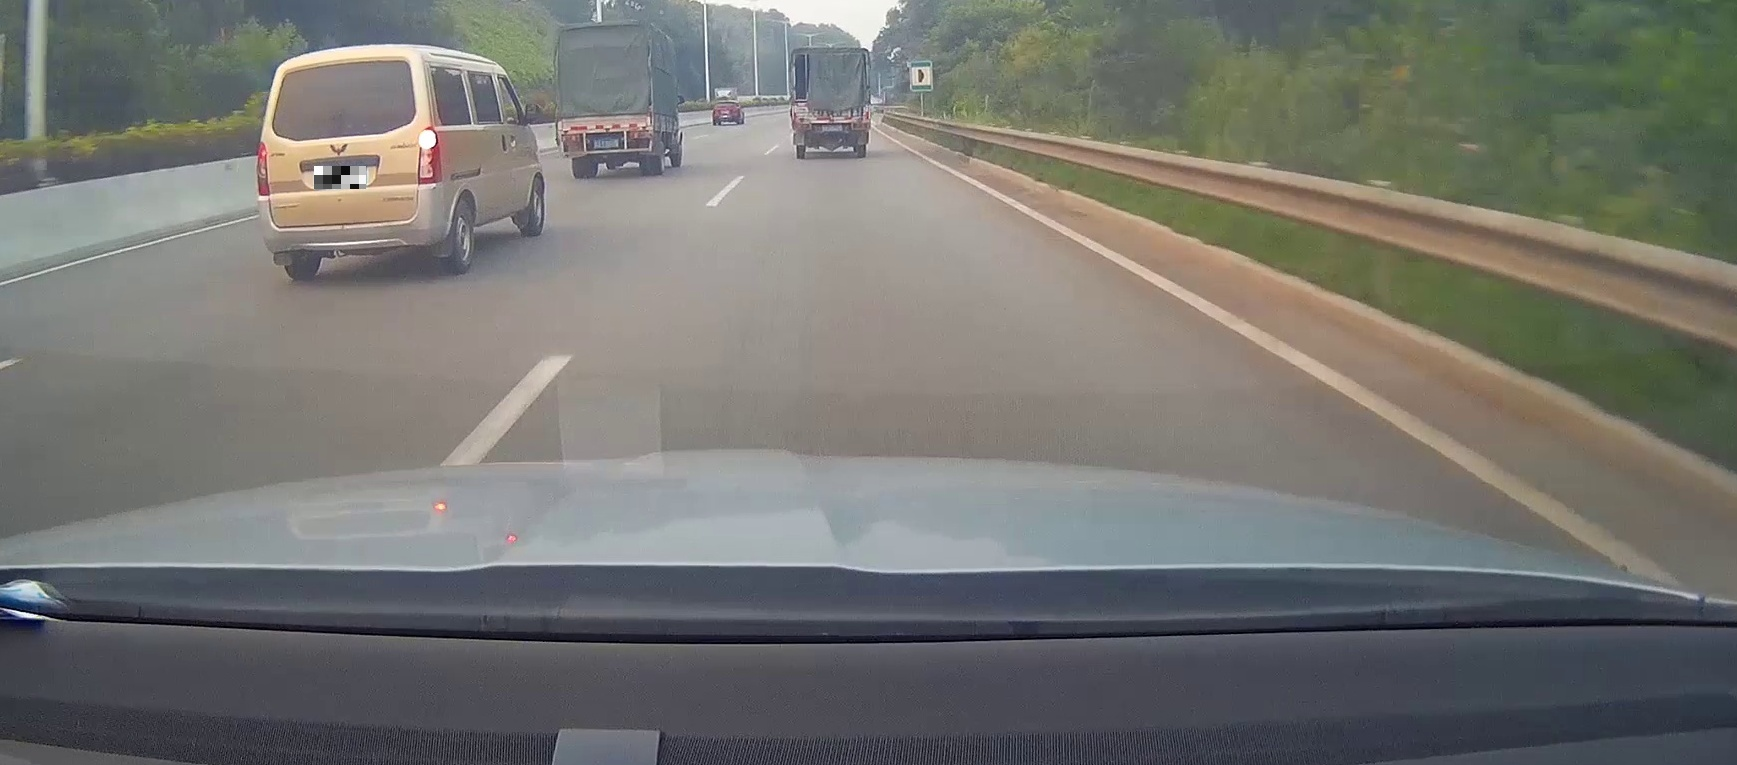L_light: (257, 142, 270, 196), (566, 135, 579, 141), (800, 124, 810, 130)
R_light: (418, 126, 442, 184), (630, 132, 647, 138), (856, 123, 867, 128)
T_light: (327, 65, 352, 70), (597, 114, 611, 117), (825, 106, 834, 108)
day-no: (556, 19, 652, 178), (790, 48, 870, 159)
day-right: (256, 45, 444, 280)
plate_1: (314, 166, 366, 189)
